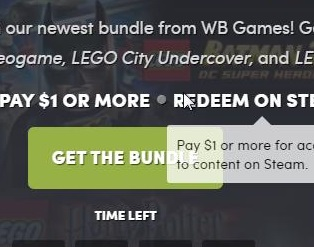cursor: (182, 91, 195, 111)
